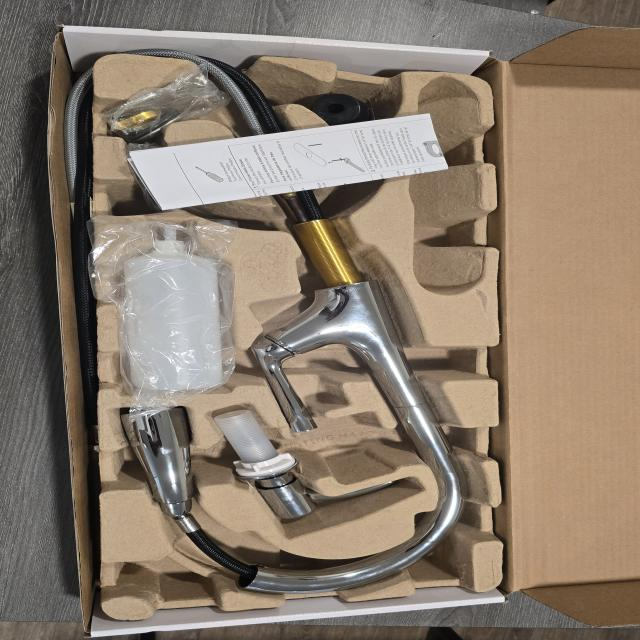1o: (125, 56, 469, 596)
2: (214, 409, 398, 523)
3: (121, 220, 226, 395)
4m: (419, 77, 480, 296)
5o: (311, 93, 379, 132)
6: (94, 69, 226, 140)
7m: (138, 153, 205, 208)
8: (122, 112, 450, 211)
